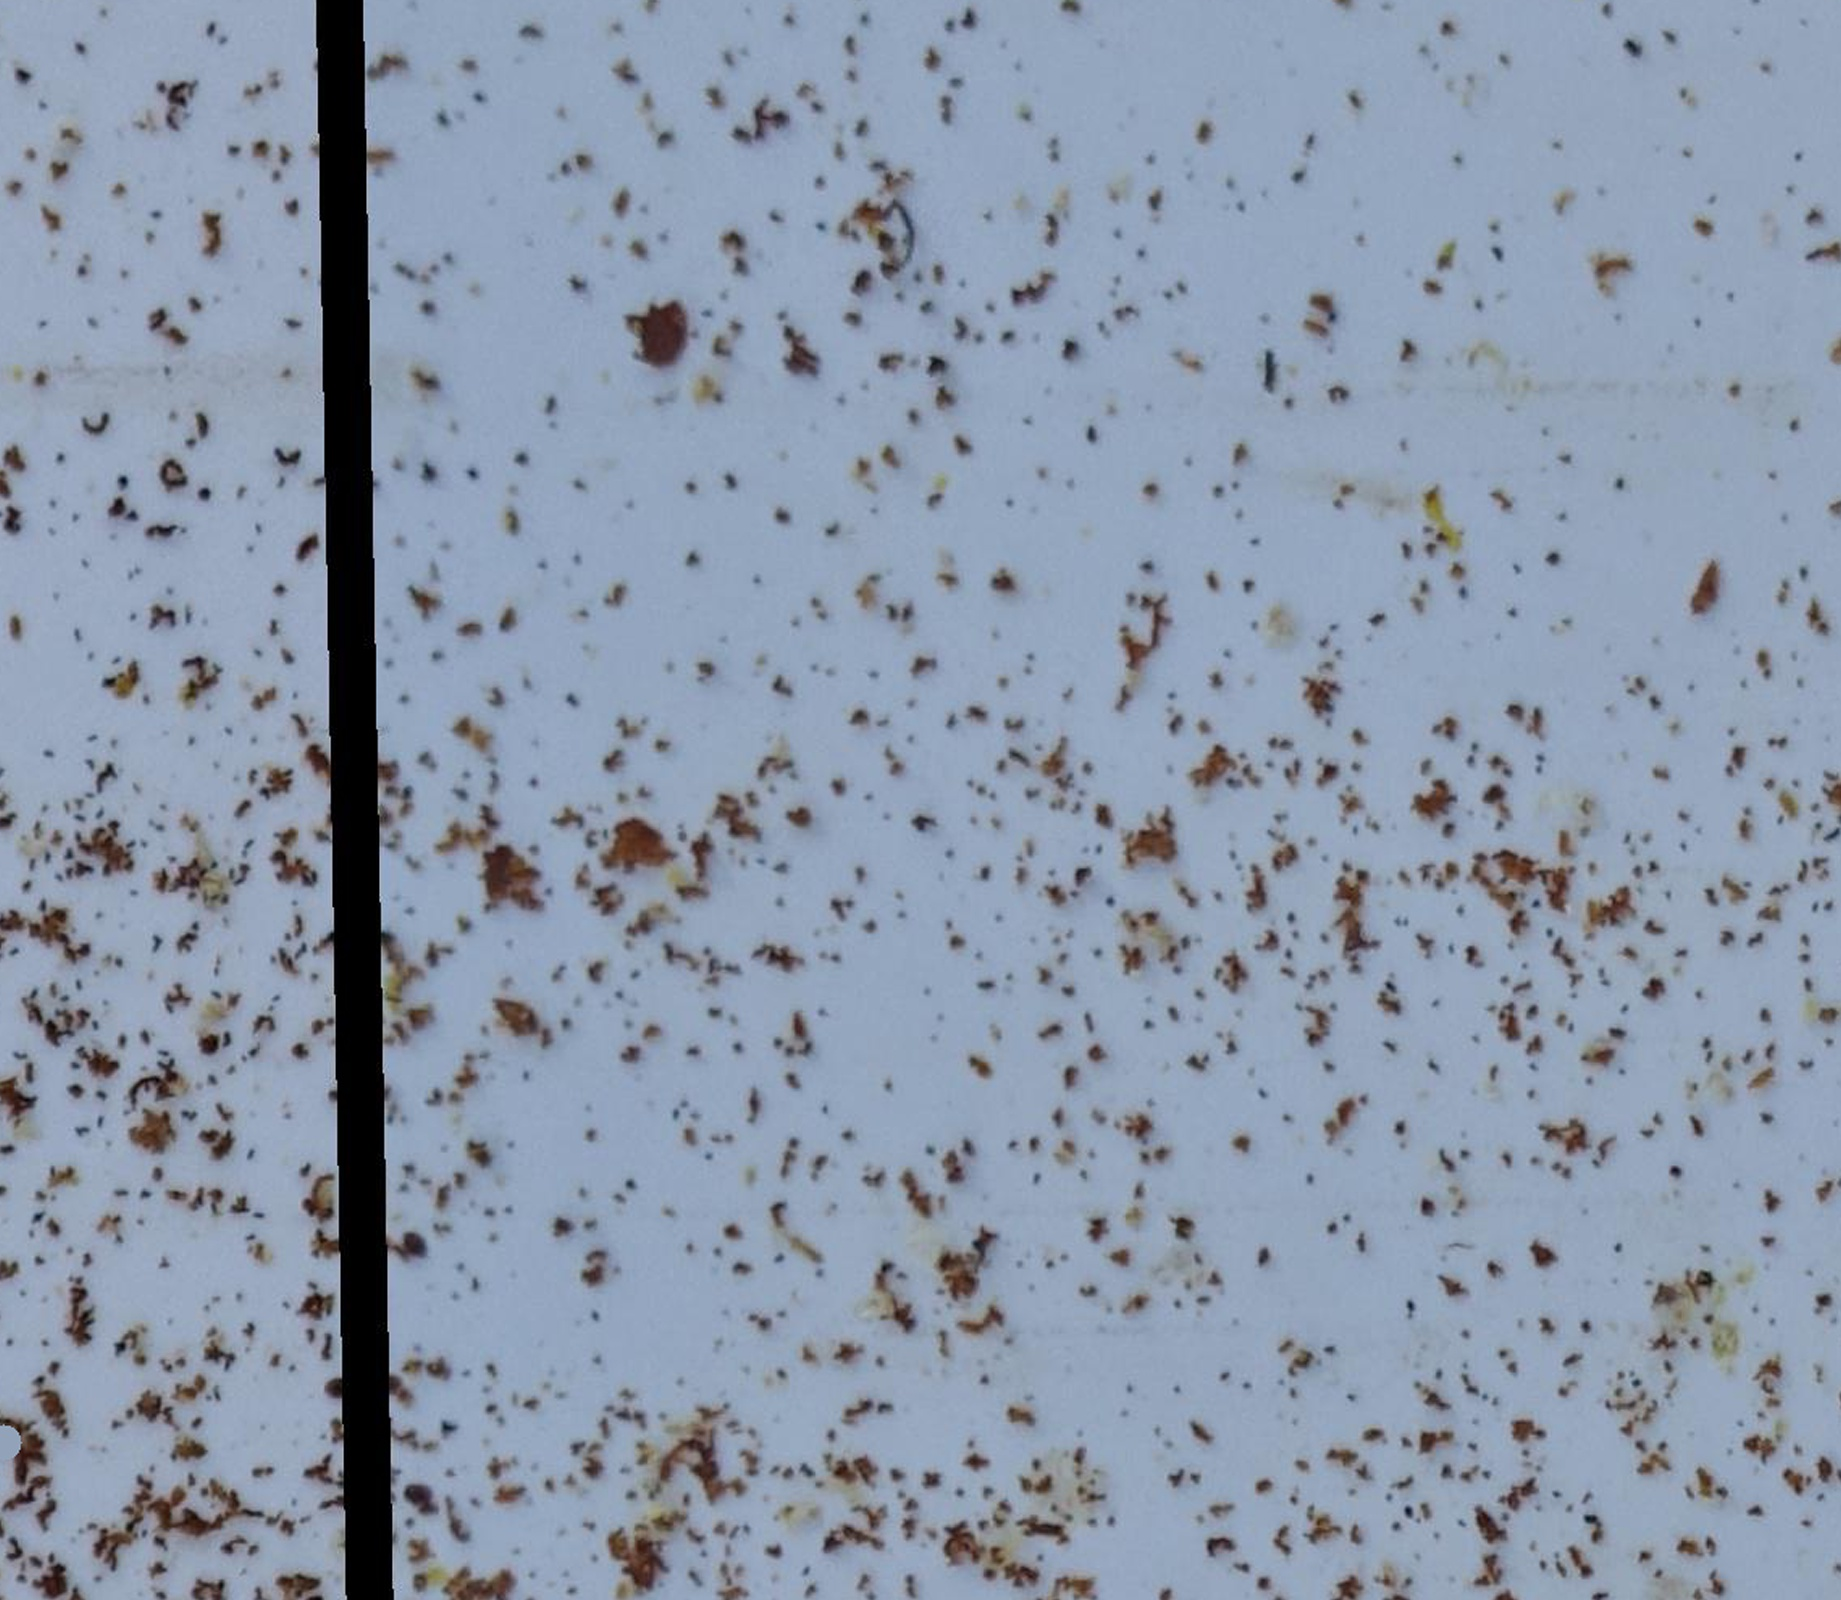Varroa: (391, 1223, 437, 1267), (393, 1472, 438, 1515)
